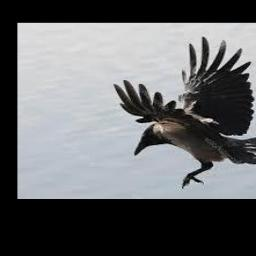Crow: (115, 36, 256, 189)
